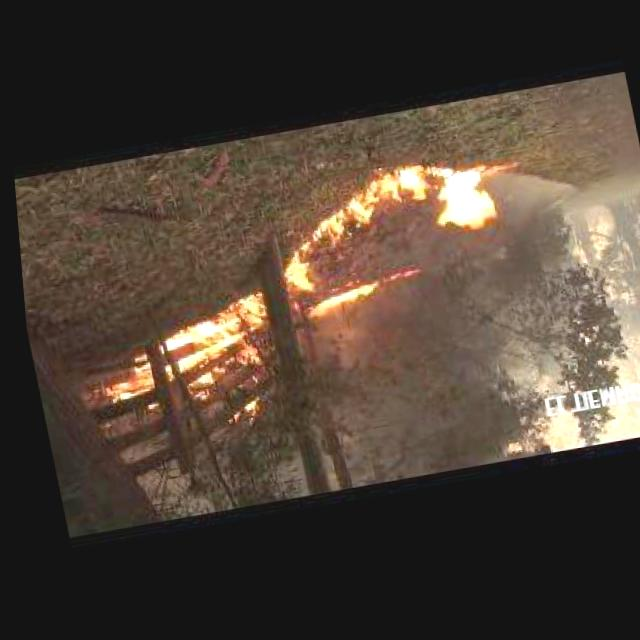Smoke: (256, 157, 507, 298), (146, 294, 276, 410), (91, 356, 147, 406), (300, 286, 376, 322), (235, 399, 258, 430), (379, 270, 417, 288)
